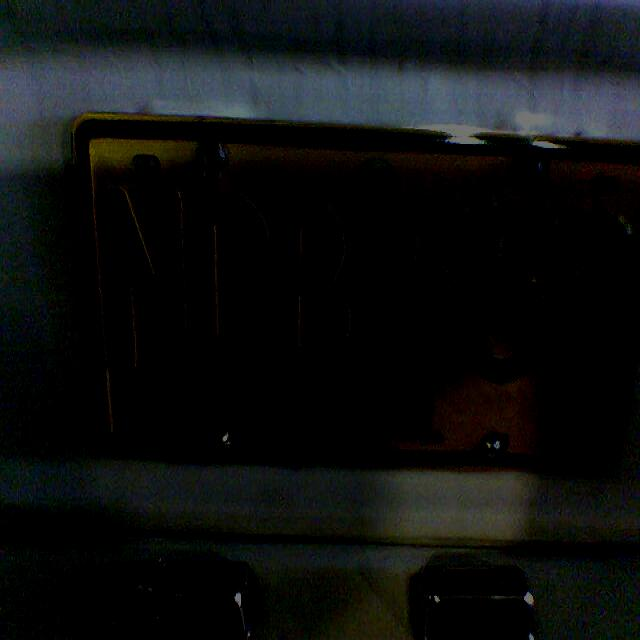placa: (61, 90, 638, 477)
